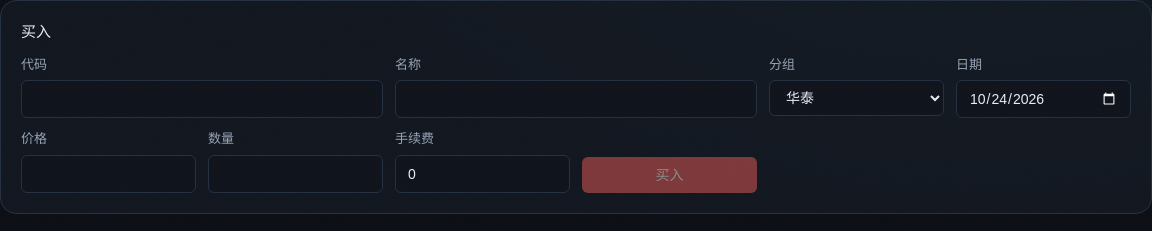
Test case: BuyForm › 提交中按钮显示提交中且禁用
This screenshot has width=1152, height=231.
In the field labelled "代码": [202, 99] box [21, 80, 383, 118], type "600519"
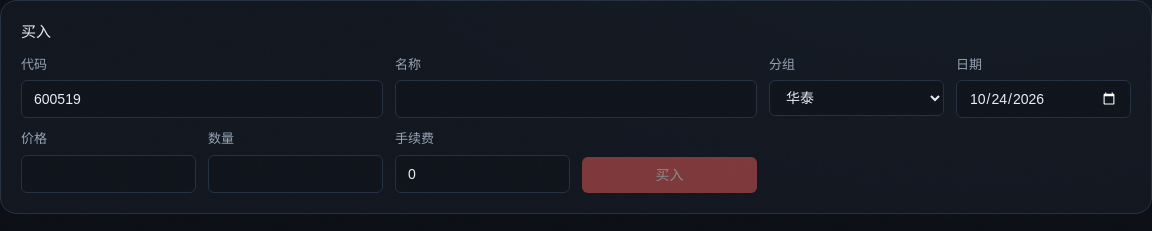
In the field labelled "名称": [576, 99] box [395, 80, 757, 118], type "贵州茅台"
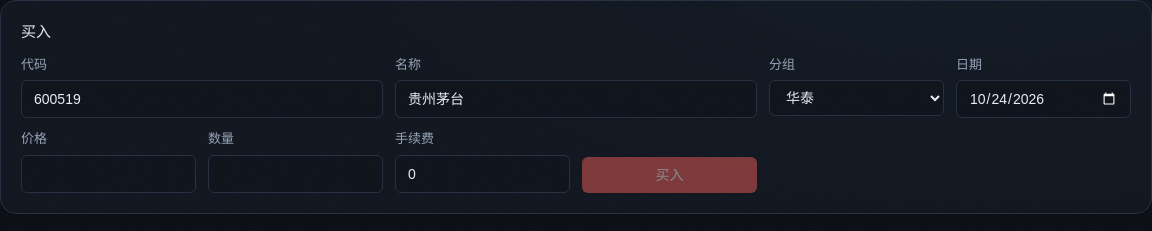
In the field labelled "价格": [108, 174] box [21, 155, 196, 193], type "1500"
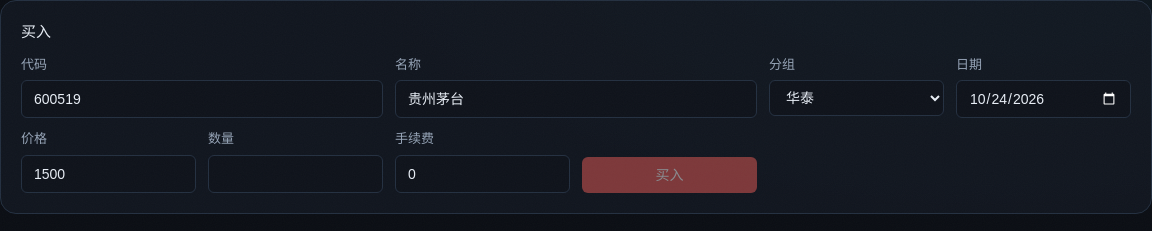
In the field labelled "数量": [296, 174] box [208, 155, 383, 193], type "100"
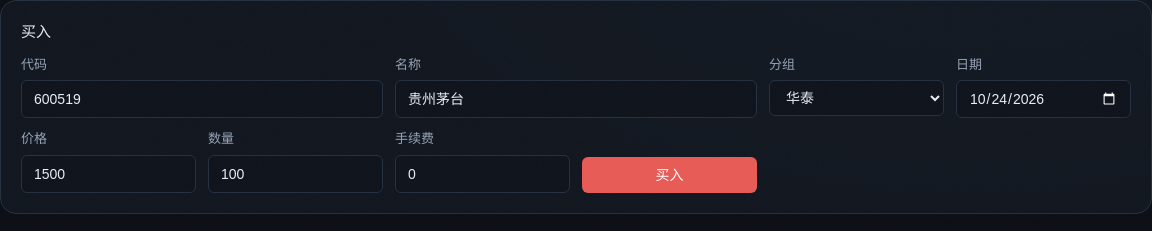
Click the button "买入": [670, 175] box [582, 157, 757, 193]
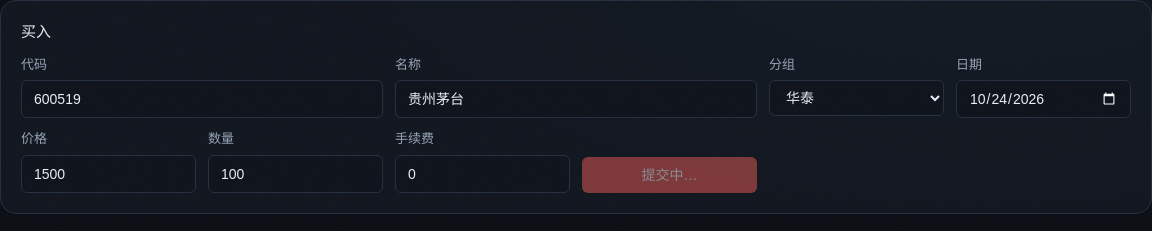
Now the button "提交中…" is disabled, box [582, 157, 757, 193]
